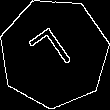L_SE: (27, 23, 81, 83)
